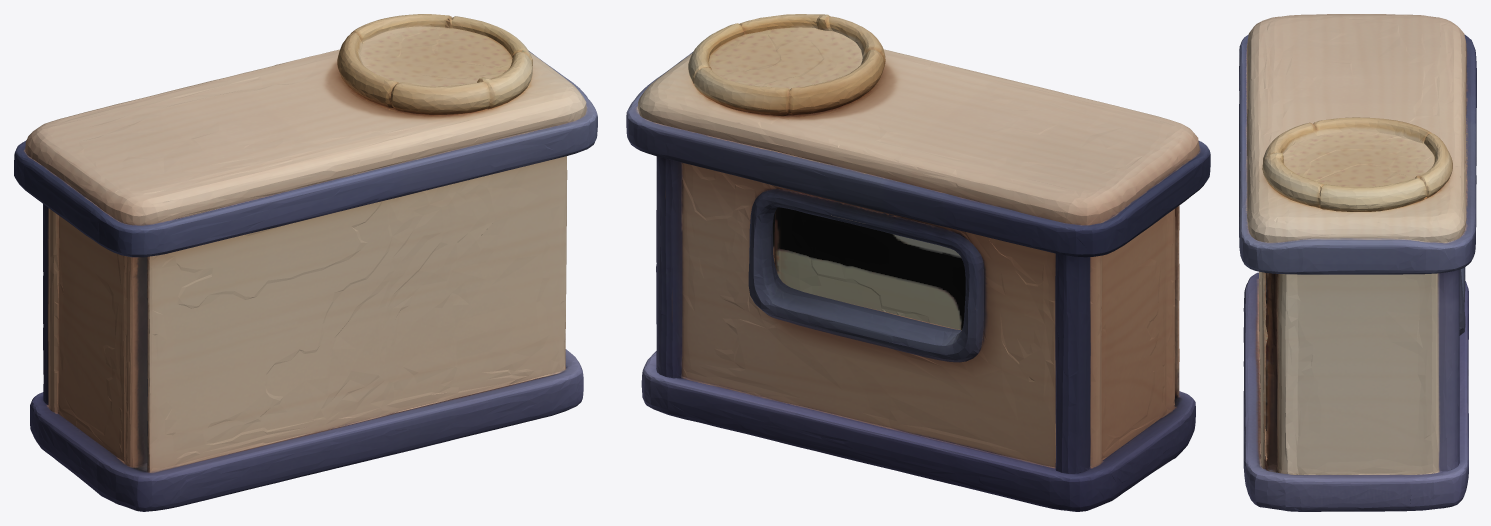
Rendered from s2_takeout_counter.glb.
3 renders of one model, left to right at view 1: azimuth 30°, elevation 25°; view 2: azimuth 150°, elevation 25°; view 3: azimuth 270°, elevation 25°, orthographic. The views are drawn at different scales.
Parts seen in each view (by area): view 1: world; view 2: world; view 3: world.
Boxes of the visible parts, left/top/right/bottom form: world: left=14, top=14, right=597, bottom=511; world: left=626, top=14, right=1210, bottom=511; world: left=1239, top=14, right=1476, bottom=511.
Size of the model in its own units: 1 by 0.6621 by 0.4495.
Materials: 1 (1 with a texture image).
